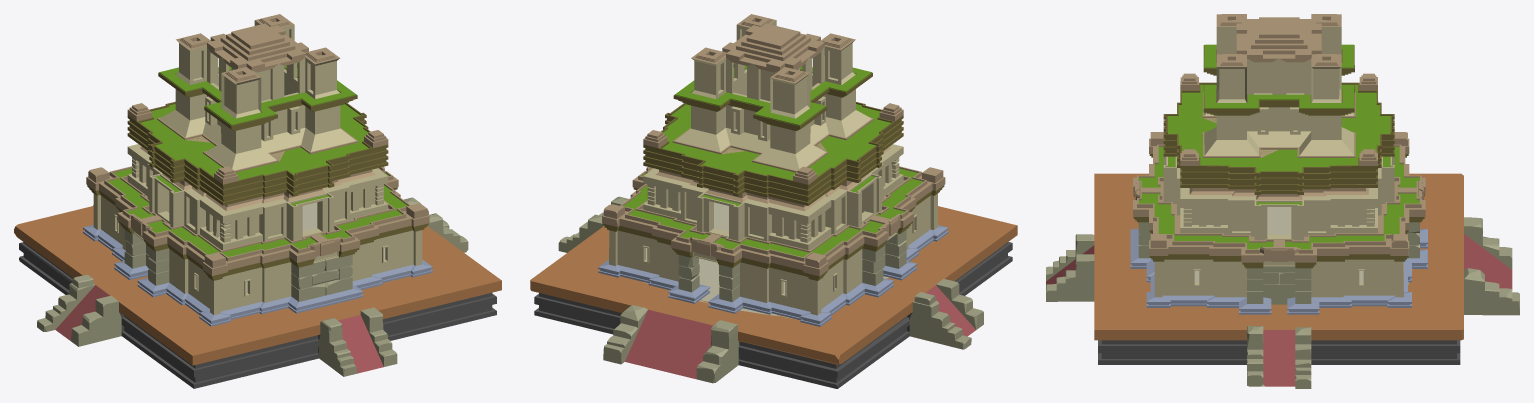
File: Temple.fbx
3 renders of one model, left to right at view 1: azimuth 30°, elevation 25°; view 2: azimuth 150°, elevation 25°; view 3: azimuth 270°, elevation 25°, orthographic. The views are drawn at different scales.
Parts seen in each view (by area): view 1: Temple; view 2: Temple; view 3: Temple.
Part boxes in pixels (x1,y1,x2,y2): Temple: (14, 14, 501, 388); Temple: (530, 14, 1017, 388); Temple: (1046, 14, 1519, 388).
Bounding box in the file's own units: 6029 × 3600 × 5893.
